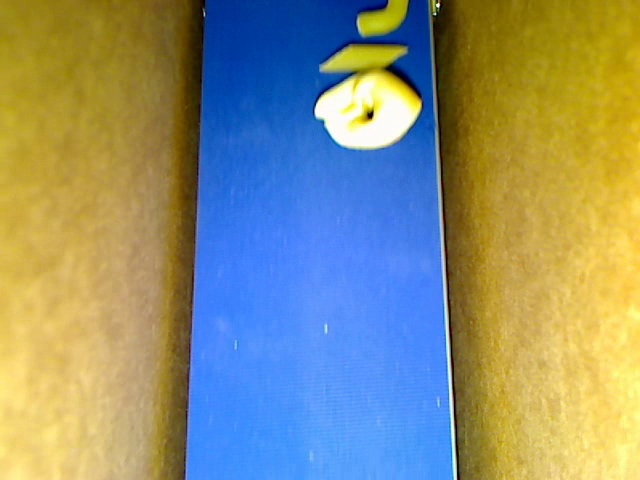elbow: (355, 1, 407, 38)
penne: (316, 43, 408, 71)
tortellini: (313, 68, 422, 148)
